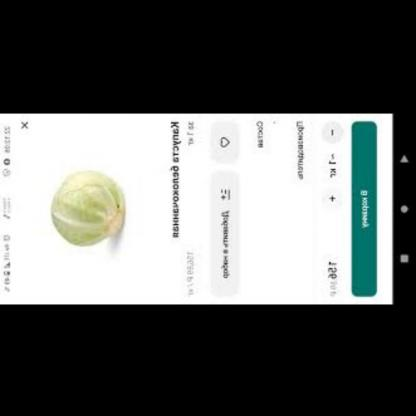cabbage: (38, 167, 132, 246)
